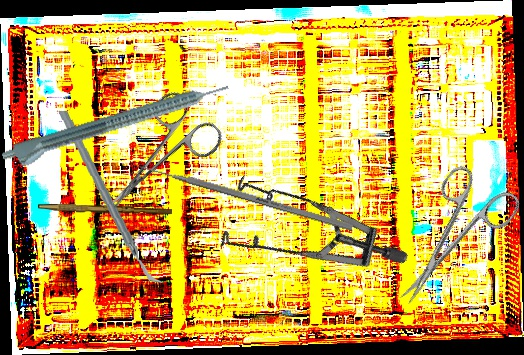Chopper: (57, 104, 165, 290)
Handpiece: (0, 79, 234, 174)
Iris Scissors: (372, 156, 524, 323), (83, 85, 228, 231)
Pusher: (126, 158, 354, 232)
Scalpel Handle: (37, 203, 173, 216)
Speculum: (195, 129, 411, 347)
